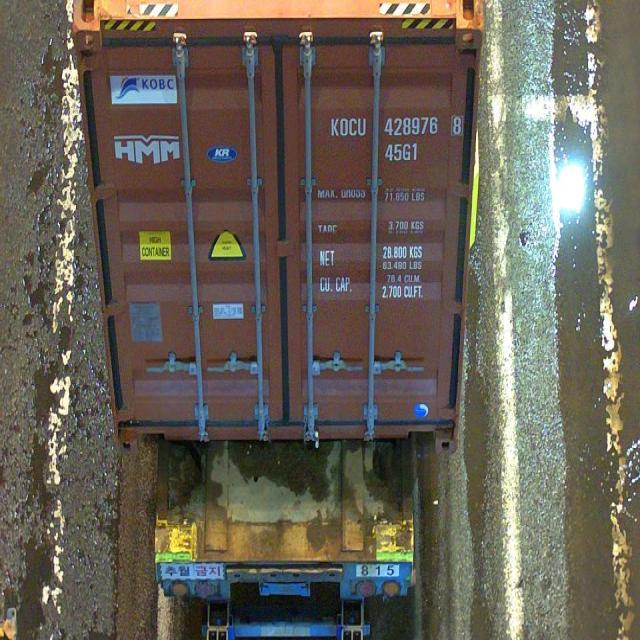ISO: (384, 142, 420, 160)
container_number: (330, 109, 465, 138)
